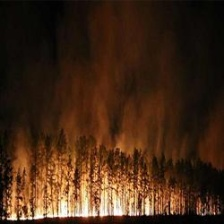fire: (10, 169, 189, 222)
